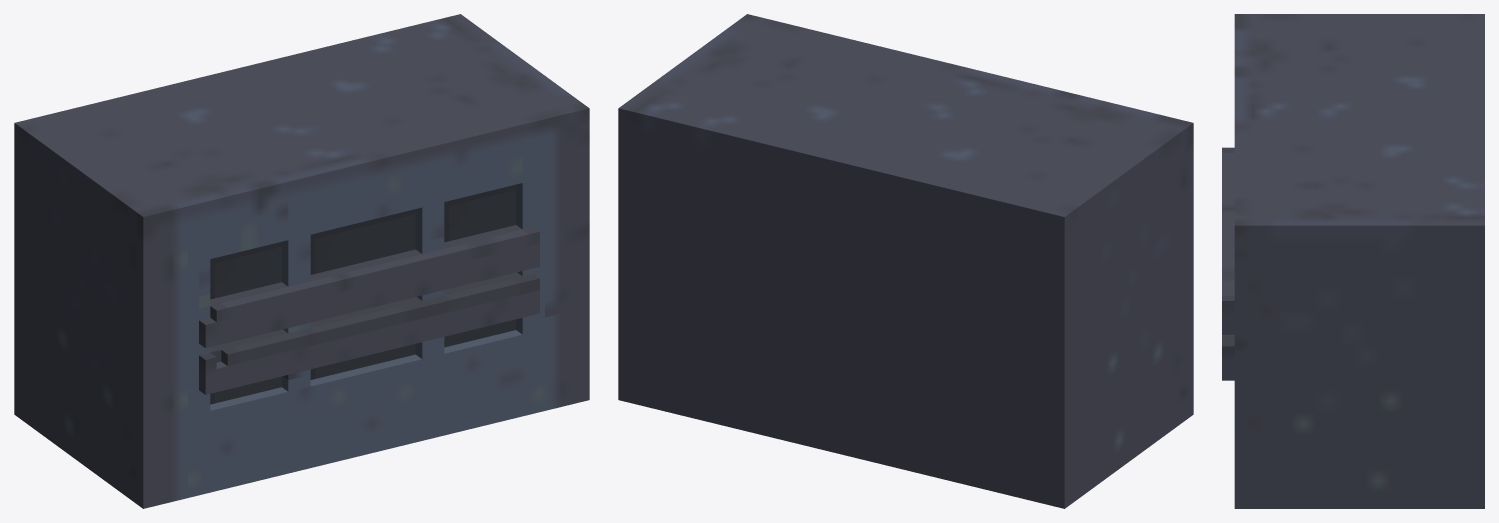
The model's file is BuildingBlock-15.fbx.
3 views of the same model, side by side, from view 1: azimuth 30°, elevation 25°; view 2: azimuth 150°, elevation 25°; view 3: azimuth 270°, elevation 25° (orthographic). The views are drawn at different scales.
Visible parts, largest first — view 1: BuildingBlock_15; view 2: BuildingBlock_15; view 3: BuildingBlock_15.
Boxes of the visible parts, left/top/right/bottom form: BuildingBlock_15: left=14, top=14, right=589, bottom=508; BuildingBlock_15: left=618, top=14, right=1193, bottom=508; BuildingBlock_15: left=1222, top=14, right=1484, bottom=508.
Size of the model in its own units: 400 by 250 by 210.
Materials: 1 (1 with a texture image).
